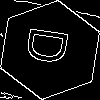D: (25, 25, 79, 68)
